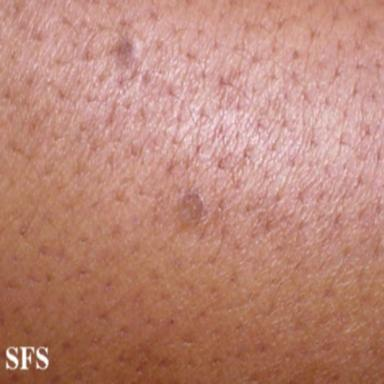Porokeratosis: (178, 191, 203, 228), (114, 36, 137, 69)
